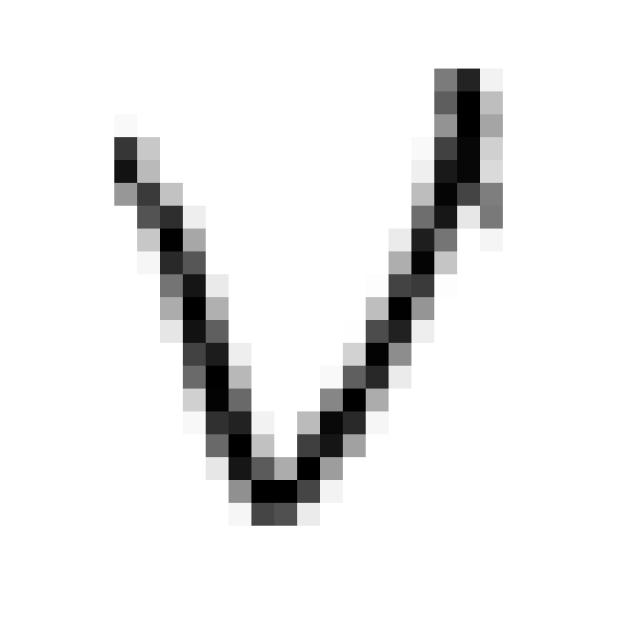7 -seven-: (94, 50, 523, 546)
